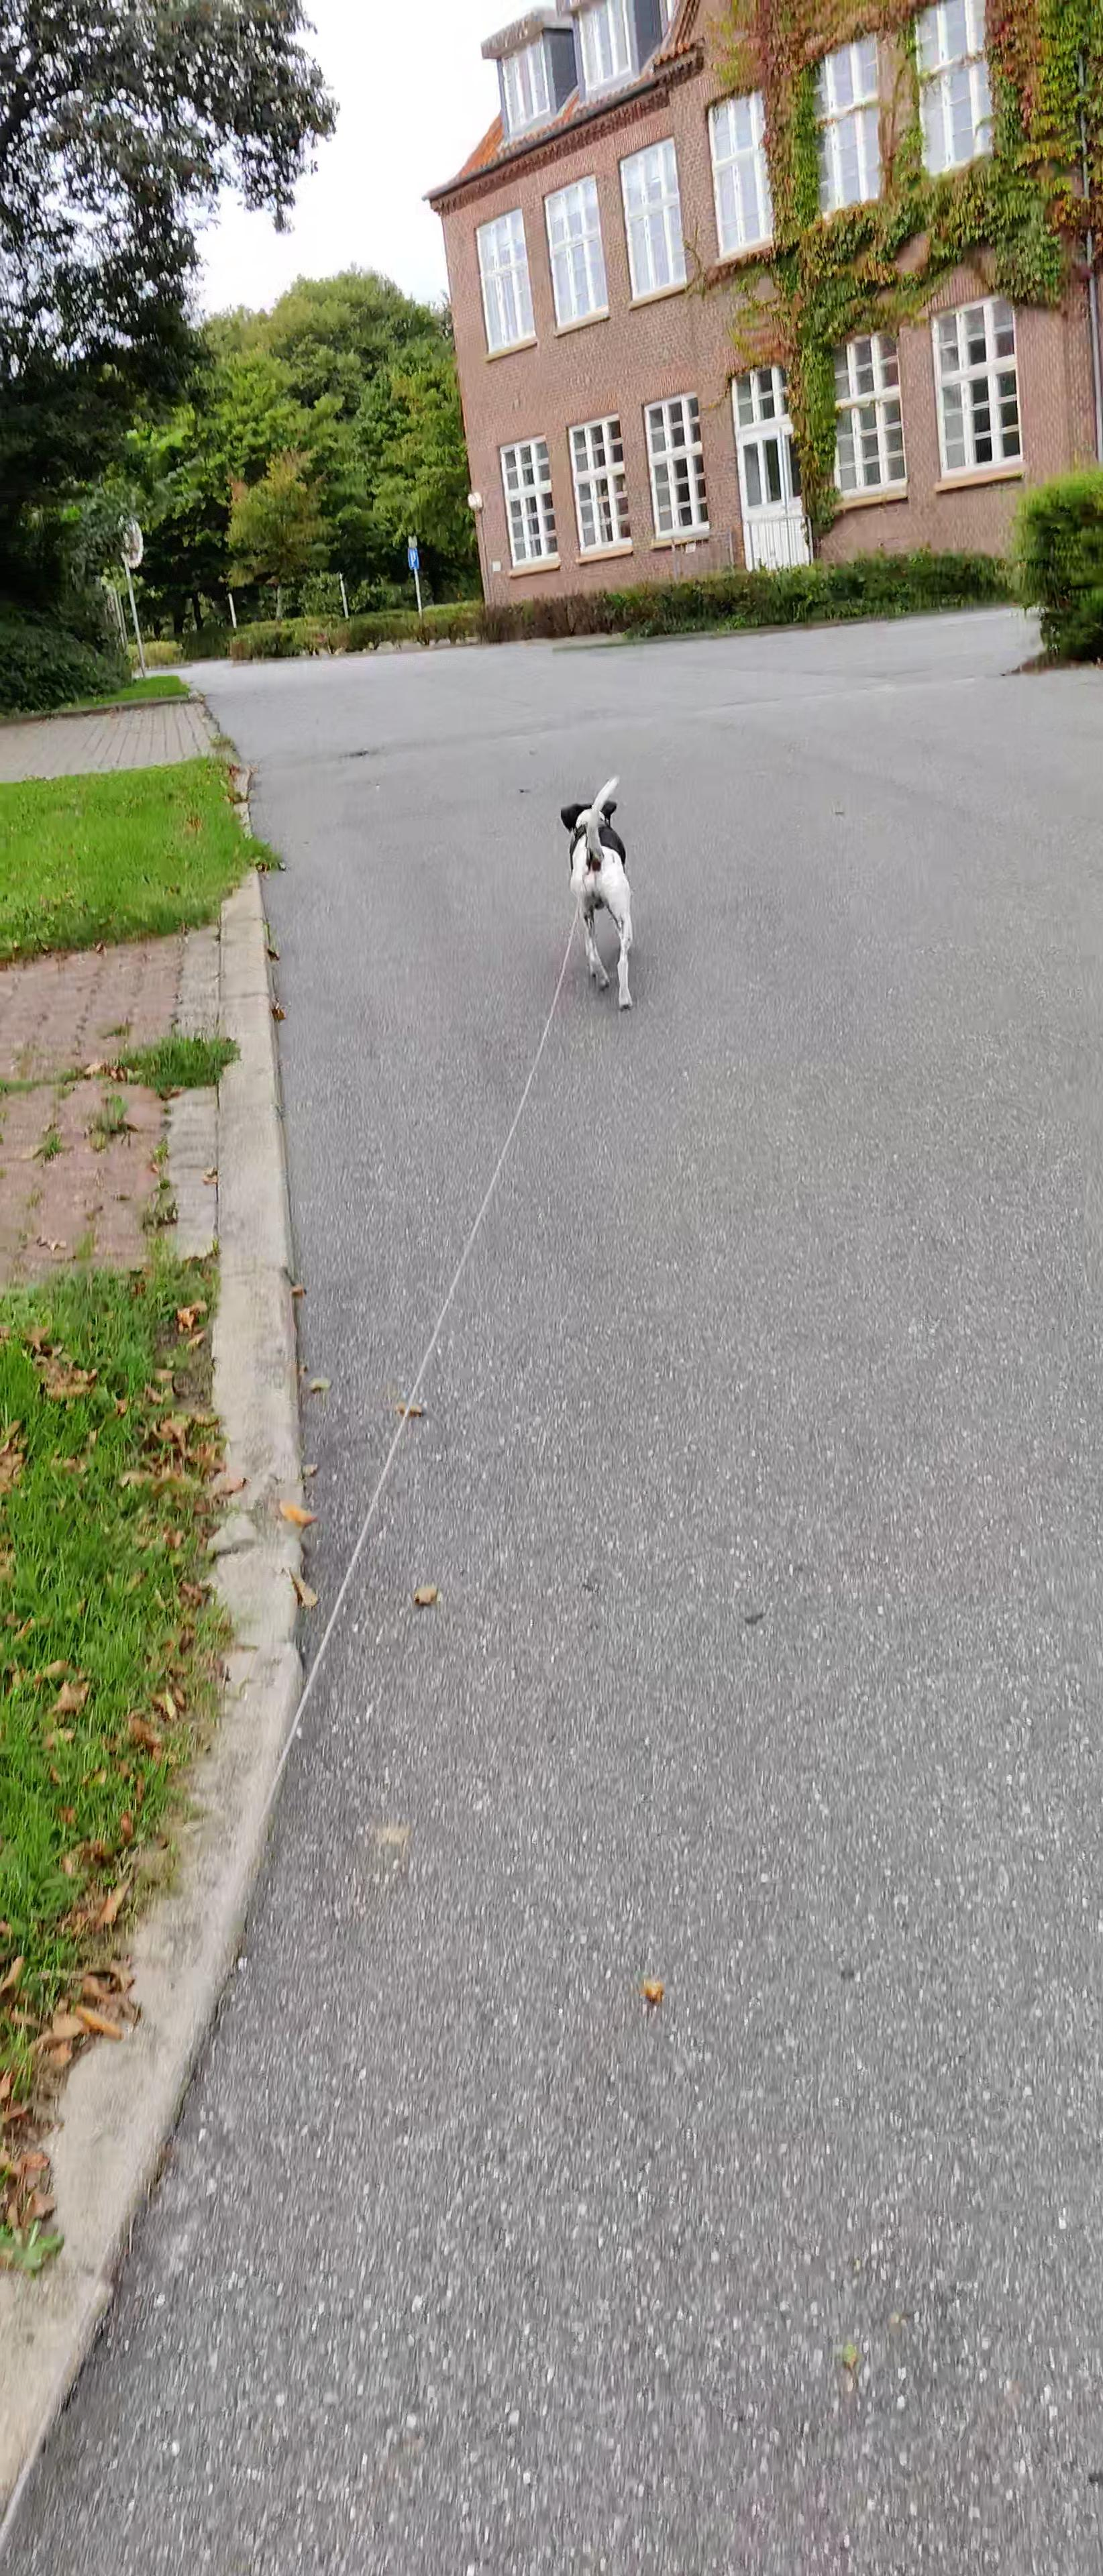Dog: (541, 762, 651, 1017)
